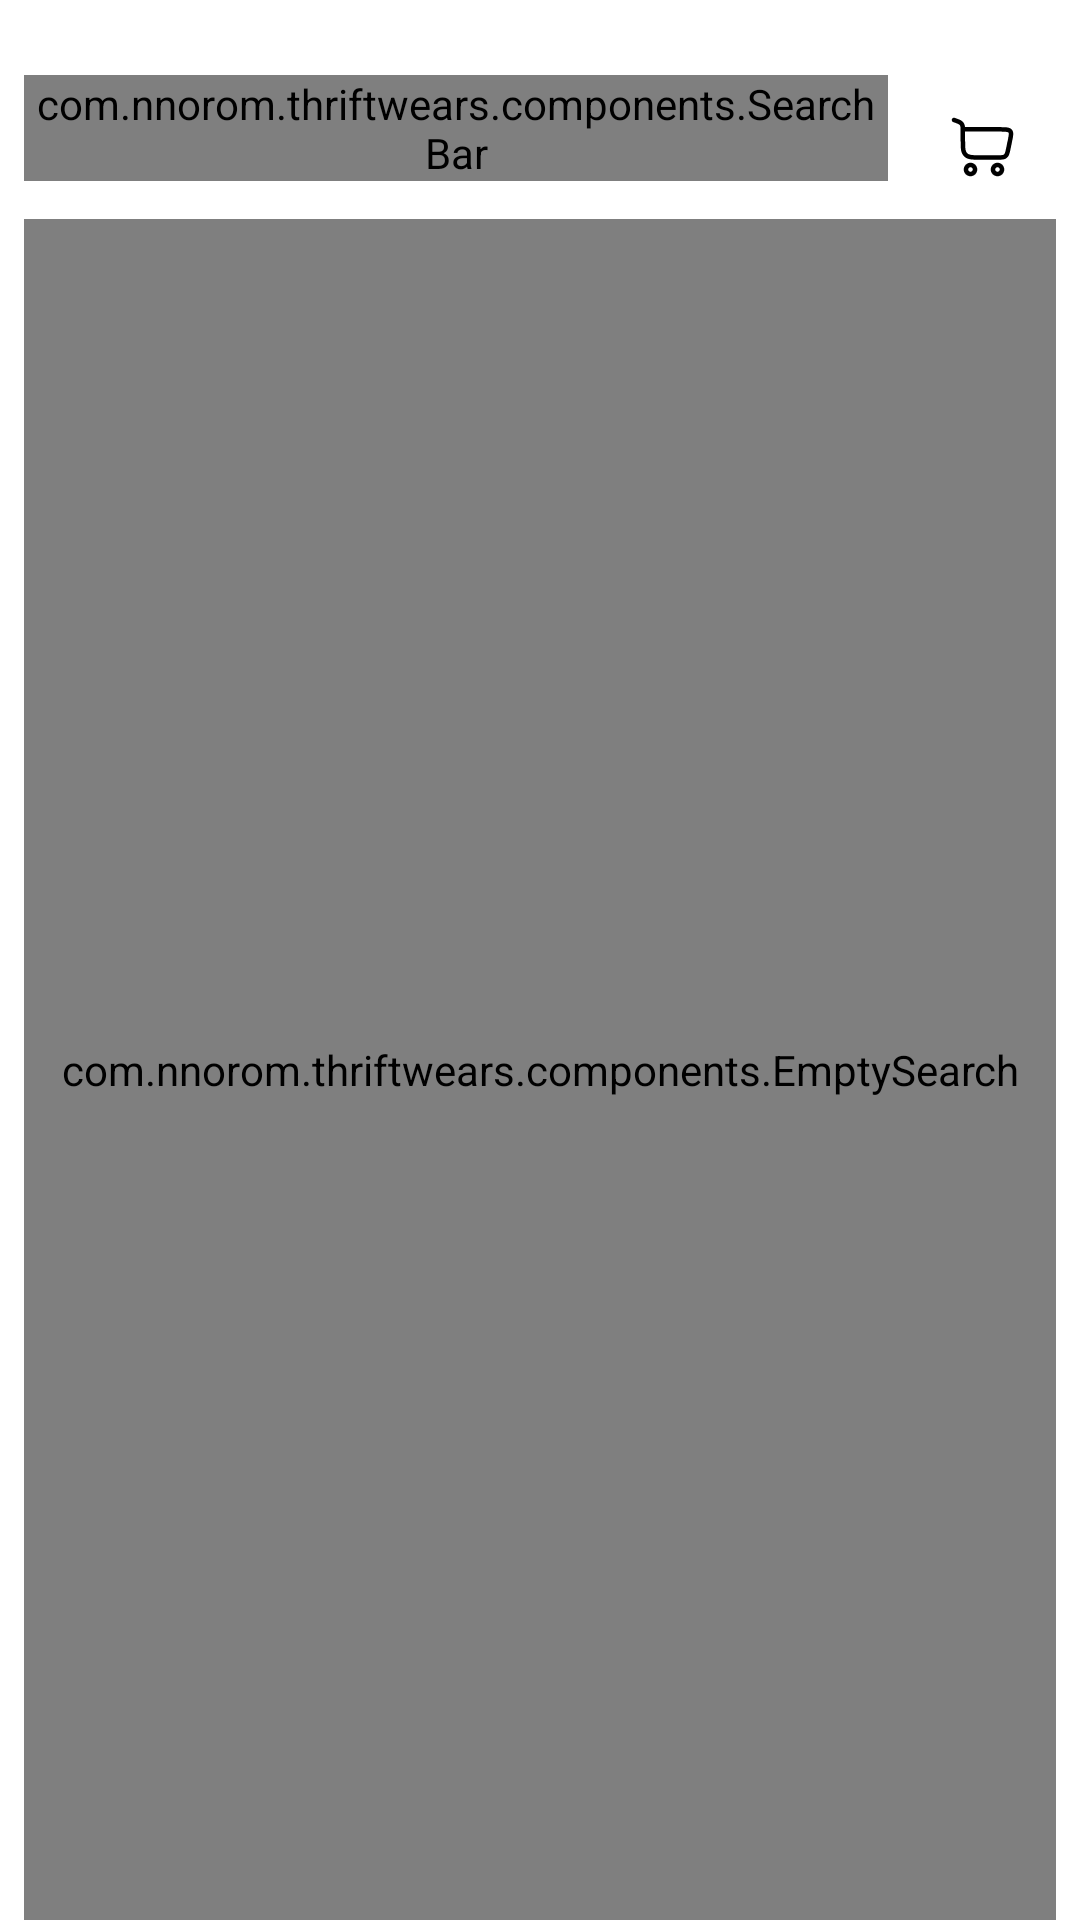

Icons on this 1080px x 1920px Android screen, each with the point to tap as (x,y):
cart: (982,147)
